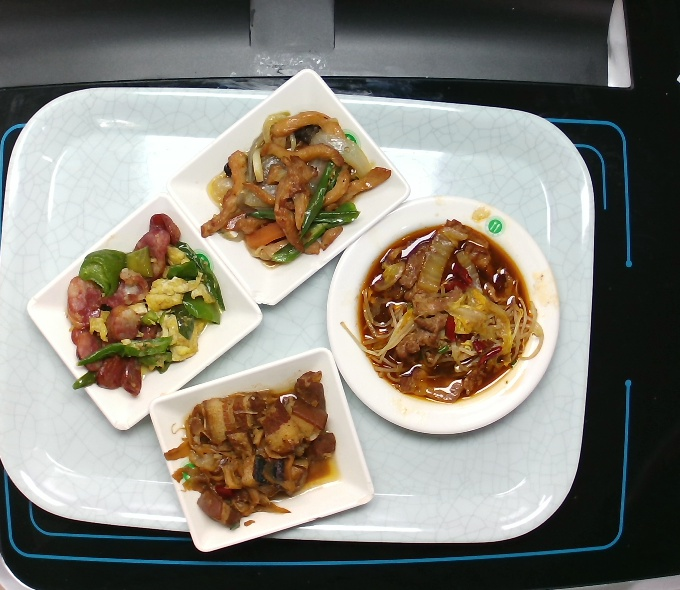wcq-HongShaoRou: (163, 369, 338, 531)
wcq-QingJiaoJiDanChaoDaChang: (63, 211, 228, 401)
wcq-QingJiaoRouSi: (196, 105, 393, 267)
wcq-ShuiZhuRouPian: (339, 216, 548, 405)
